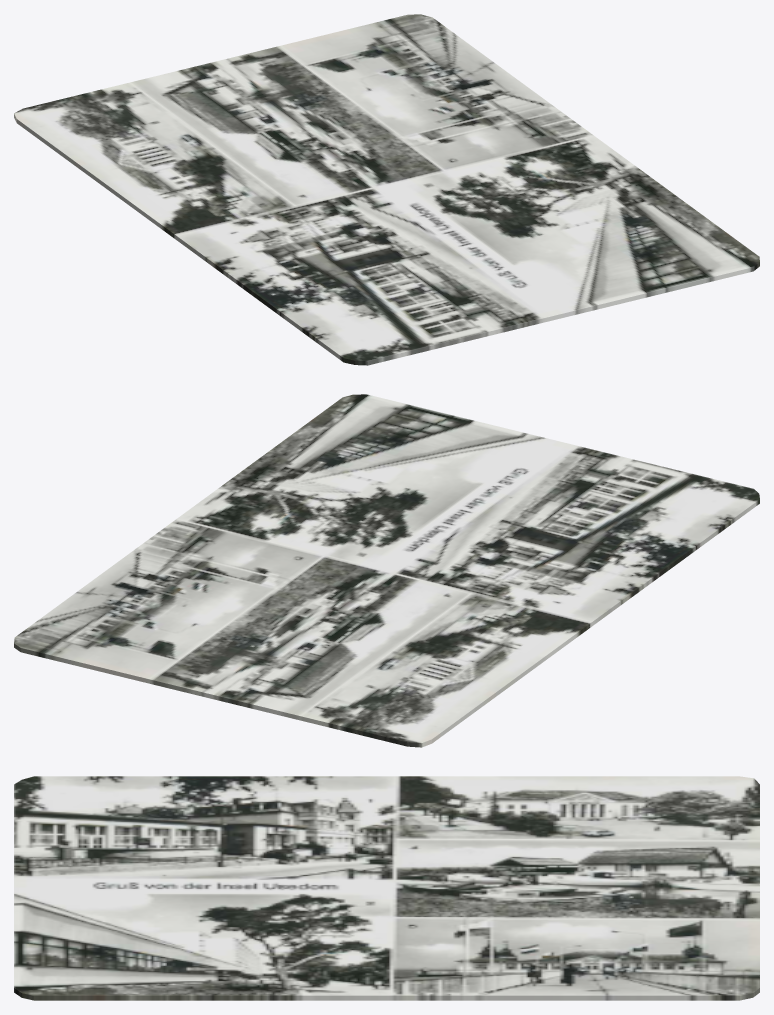
The model's file is obj_Postcard_006.obj.
3 views of the same model, one above another, from view 1: azimuth 30°, elevation 25°; view 2: azimuth 150°, elevation 25°; view 3: azimuth 270°, elevation 25° (orthographic). The views are drawn at different scales.
Parts seen in each view (by area): view 1: obj_Postcard.006; view 2: obj_Postcard.006; view 3: obj_Postcard.006.
Part boxes in pixels (bbox=[...]): obj_Postcard.006: bbox=[14, 14, 759, 365]; obj_Postcard.006: bbox=[14, 394, 759, 747]; obj_Postcard.006: bbox=[14, 776, 759, 1000].
Size of the model in its own units: 0.1349 by 0.00135 by 0.194.
